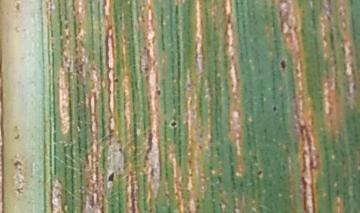tarspot: (277, 55, 290, 73), (167, 116, 181, 130), (106, 168, 116, 183), (254, 169, 267, 179), (154, 85, 162, 98), (272, 103, 278, 115), (112, 78, 119, 83)
